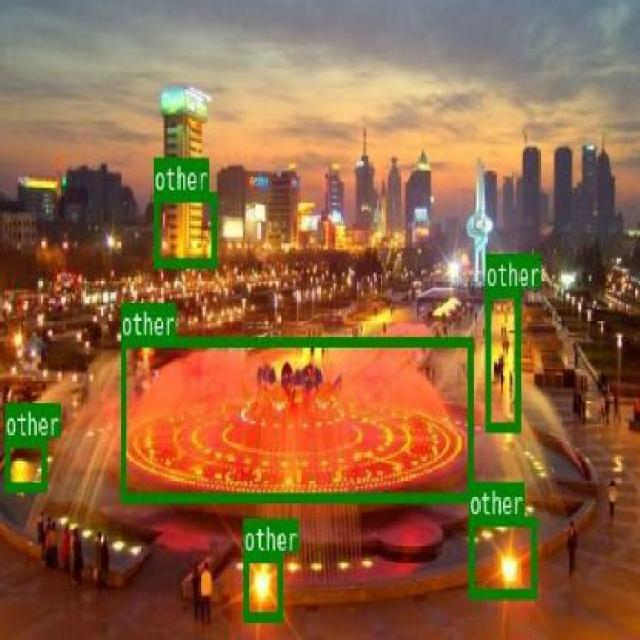other: (120, 335, 472, 500), (468, 514, 536, 596), (484, 286, 520, 432), (153, 191, 216, 266), (243, 552, 282, 620), (4, 436, 46, 490)
